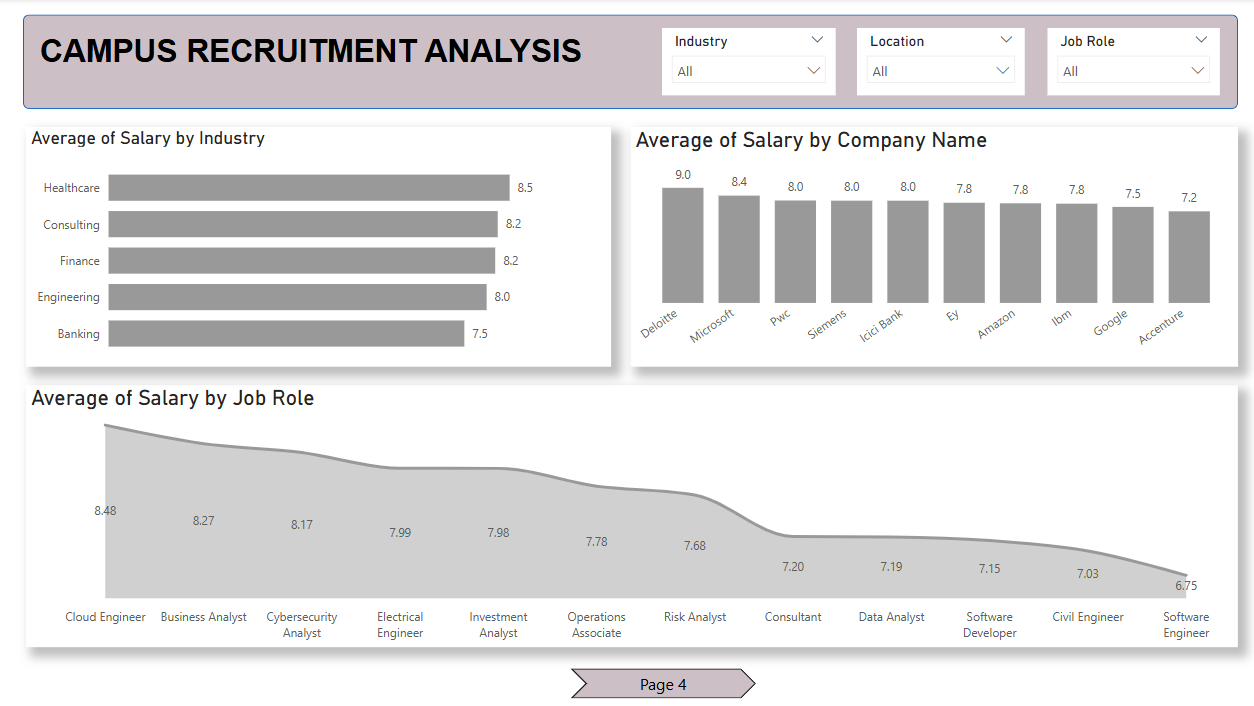

Layout of this report page (visuals, bound fields, positions):
{"tool":"powerbi","page":{"name":"Salary Distribution","canvas":[1280,720],"ordinal":2},"visuals":[{"type":"shape","box":[33.3,16.7,1226.5,95.4],"z":0},{"type":"textbox","box":[45.4,30.2,602.8,68],"z":1000},{"type":"slicer","fields":{"Values":["campus_recruitment.Job Role"]},"box":[1067.5,30.3,174.1,68.1],"z":2000},{"type":"slicer","fields":{"Values":["campus_recruitment.Location"]},"box":[875.2,30.3,169.6,68.1],"z":3000},{"type":"slicer","fields":{"Values":["campus_recruitment.Industry"]},"box":[678.4,30.3,175.6,68.1],"z":4000},{"type":"shape","box":[585.8,676.5,187.1,30.2],"z":5000},{"type":"stackedAreaChart","fields":{"Category":["campus_recruitment.Job Role"],"Y":["Avg(campus_recruitment.Salary)"]},"box":[36.3,390.7,1223.5,265],"z":6000},{"type":"columnChart","fields":{"Category":["campus_recruitment.Company Name"],"Y":["Avg(campus_recruitment.Salary)"]},"box":[646.6,130.2,613.3,242.3],"z":7000},{"type":"barChart","fields":{"Category":["campus_recruitment.Industry"],"Y":["Avg(campus_recruitment.Salary)"]},"box":[36.3,130.2,590.5,242.3],"z":8000}]}

Visuals, with their boxes in screenshot pixels (x1, y1, x2, y2), scaled from the page's 1280x720 canvas onto the 1254x706 screenshot:
shape: detection(33, 16, 1234, 110)
textbox: detection(44, 30, 635, 96)
slicer - campus_recruitment.Job Role: detection(1046, 30, 1216, 96)
slicer - campus_recruitment.Location: detection(857, 30, 1024, 96)
slicer - campus_recruitment.Industry: detection(665, 30, 837, 96)
shape: detection(574, 663, 757, 693)
stackedAreaChart - campus_recruitment.Job Role x Avg(campus_recruitment.Salary): detection(36, 383, 1234, 643)
columnChart - campus_recruitment.Company Name x Avg(campus_recruitment.Salary): detection(633, 128, 1234, 365)
barChart - campus_recruitment.Industry x Avg(campus_recruitment.Salary): detection(36, 128, 614, 365)
